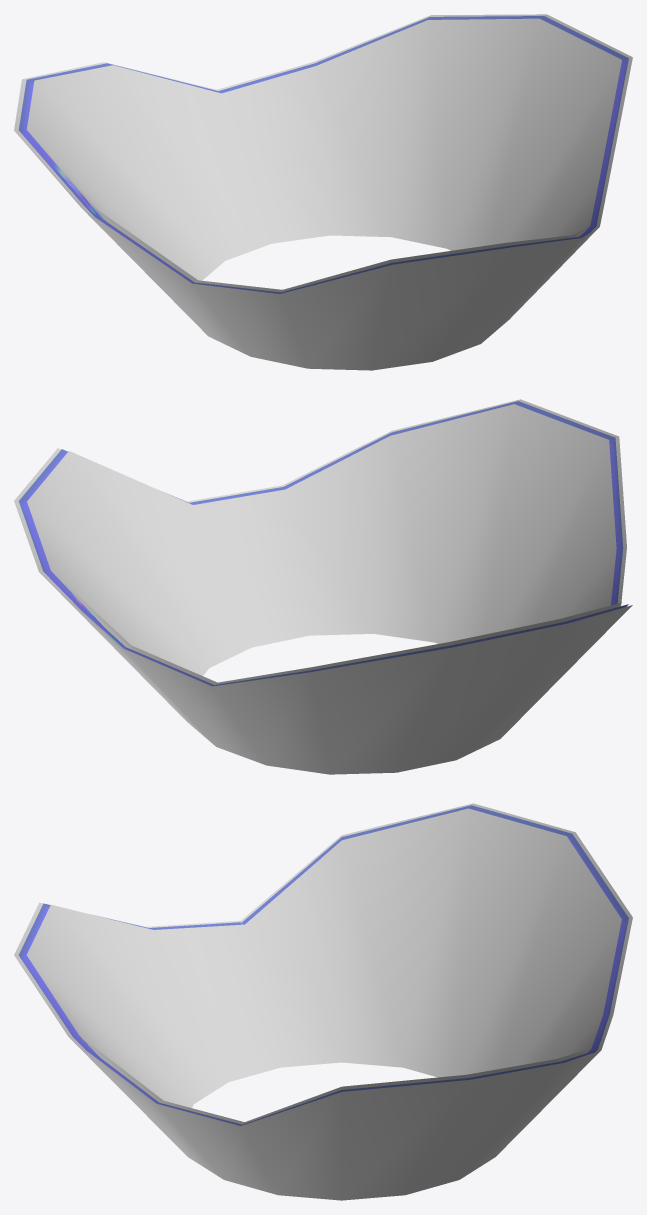
The model's file is p_mesh_lavaball_splashcylinder01.fbx.
3 views of the same model, one above another, from view 1: azimuth 30°, elevation 25°; view 2: azimuth 150°, elevation 25°; view 3: azimuth 270°, elevation 25° (orthographic). The views are drawn at different scales.
Visible parts, largest first — view 1: p_mesh_water_cylinder04.002; view 2: p_mesh_water_cylinder04.002; view 3: p_mesh_water_cylinder04.002.
Part boxes in pixels (bbox=[...]): p_mesh_water_cylinder04.002: bbox=[14, 14, 632, 370]; p_mesh_water_cylinder04.002: bbox=[14, 399, 632, 774]; p_mesh_water_cylinder04.002: bbox=[14, 803, 632, 1200].
Size of the model in its own units: 69.43 by 22.74 by 66.28.
